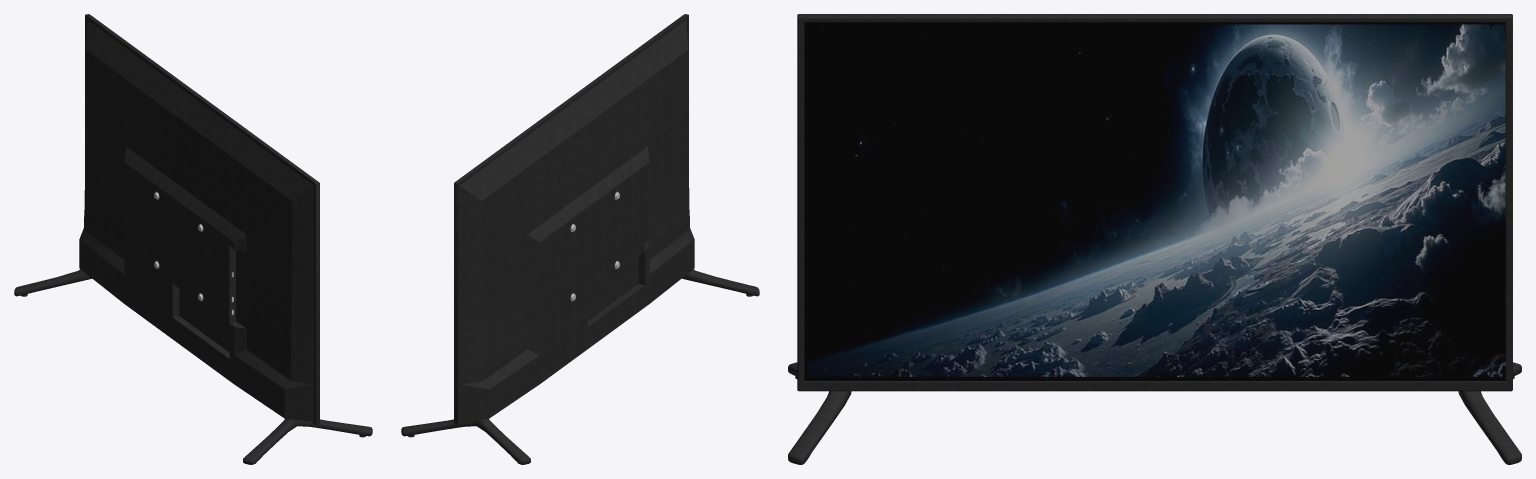
3 renders of one model, left to right at view 1: azimuth 30°, elevation 25°; view 2: azimuth 150°, elevation 25°; view 3: azimuth 270°, elevation 25°, orthographic. The views are drawn at different scales.
Parts seen in each view (by area): view 1: TV_2; view 2: TV_2; view 3: TV_2.
Part boxes in pixels (<box>): TV_2: <box>14,14,372,464</box>; TV_2: <box>401,14,759,464</box>; TV_2: <box>788,14,1521,464</box>.
Size of the model in its own units: 36.58 by 71.62 by 116.
